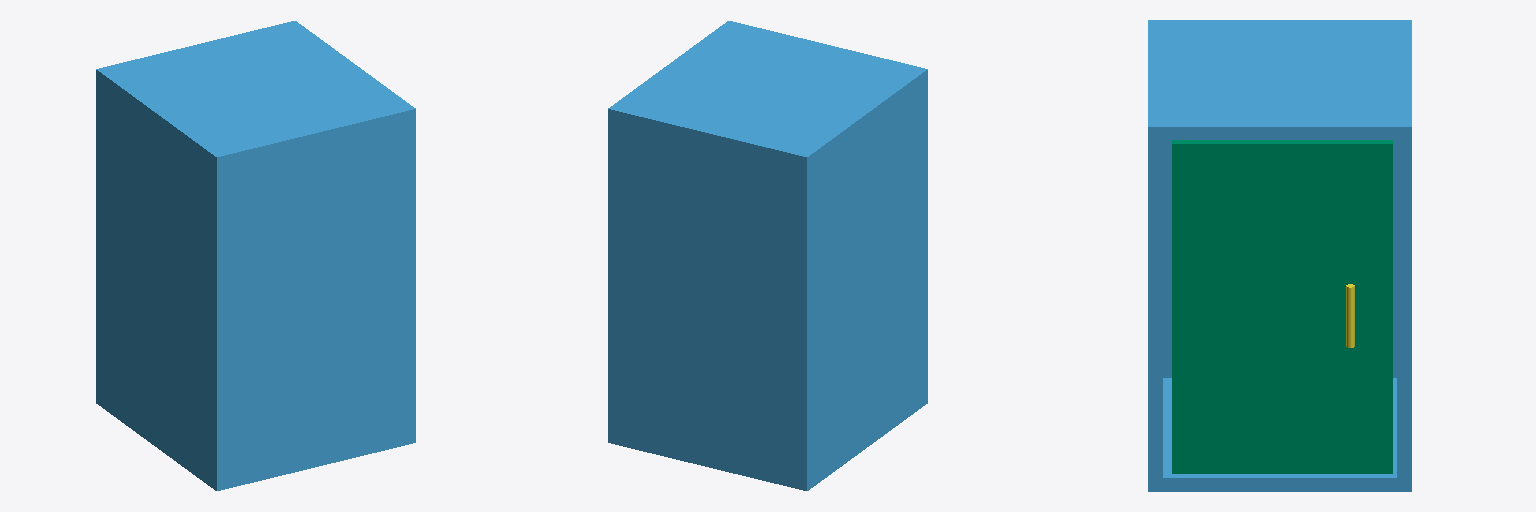
The robot description file, URDF, robot "my_cabinet":
<?xml version="1.0" ?>
<robot name="my_cabinet">
	<link name="world"/>
	<joint name="virtual_joint" type="fixed">
		<parent link="world"/>
		<child link="base_cabinet_link"/>
		<origin xyz="0.0 0.0 0.0" rpy="0.0 0.0 0.0"/>
	</joint>
	<link name="base_cabinet_link">
		<visual>
			<origin xyz="0.0 -0.0025 -0.23114638693445527" rpy="0.0 0.0 0.0"/>
			<geometry>
				<box size="0.3 0.31451438935212817 0.018"/>
			</geometry>
		</visual>
		<collision name="base_cabinet_link_collision_0">
			<origin xyz="0.0 -0.0025 -0.23114638693445527" rpy="0.0 0.0 0.0"/>
			<geometry>
				<box size="0.3 0.31451438935212817 0.018"/>
			</geometry>
		</collision>
		<visual>
			<origin xyz="0.0 0.1457571946760641 0.0" rpy="0.0 0.0 0.0"/>
			<geometry>
				<box size="0.3 0.018 0.48029277386891056"/>
			</geometry>
		</visual>
		<collision name="base_cabinet_link_collision_1">
			<origin xyz="0.0 0.1457571946760641 0.0" rpy="0.0 0.0 0.0"/>
			<geometry>
				<box size="0.3 0.018 0.48029277386891056"/>
			</geometry>
		</collision>
		<visual>
			<origin xyz="0.0 -0.1507571946760641 0.0" rpy="0.0 0.0 0.0"/>
			<geometry>
				<box size="0.3 0.018 0.48029277386891056"/>
			</geometry>
		</visual>
		<collision name="base_cabinet_link_collision_2">
			<origin xyz="0.0 -0.1507571946760641 0.0" rpy="0.0 0.0 0.0"/>
			<geometry>
				<box size="0.3 0.018 0.48029277386891056"/>
			</geometry>
		</collision>
		<visual>
			<origin xyz="0.0 -0.0025 0.23114638693445527" rpy="0.0 0.0 0.0"/>
			<geometry>
				<box size="0.3 0.31451438935212817 0.018"/>
			</geometry>
		</visual>
		<collision name="base_cabinet_link_collision_3">
			<origin xyz="0.0 -0.0025 0.23114638693445527" rpy="0.0 0.0 0.0"/>
			<geometry>
				<box size="0.3 0.31451438935212817 0.018"/>
			</geometry>
		</collision>
		<visual>
			<origin xyz="-0.141 -0.0025 0.0" rpy="0.0 0.0 0.0"/>
			<geometry>
				<box size="0.018 0.31451438935212817 0.48029277386891056"/>
			</geometry>
		</visual>
		<collision name="base_cabinet_link_collision_4">
			<origin xyz="-0.141 -0.0025 0.0" rpy="0.0 0.0 0.0"/>
			<geometry>
				<box size="0.018 0.31451438935212817 0.48029277386891056"/>
			</geometry>
		</collision>
		<inertial>
			<mass value="0.200000"/>
			<inertia ixx="0.005493" ixy="0.0" ixz="0.0" iyy="0.005345" iyz="0.0" izz="0.003149"/>
		</inertial>
	</link>
	<link name="door_link">
		<visual>
			<origin xyz="0.0 -0.1317571946760641 0.0"/>
			<geometry>
				<box size="0.018 0.2635143893521282 0.4342927738689105"/>
			</geometry>
		</visual>
		<collision name="door_link_collision">
			<origin xyz="0.0 -0.1317571946760641 0.0"/>
			<geometry>
				<box size="0.018 0.2635143893521282 0.4342927738689105"/>
			</geometry>
		</collision>
		<inertial>
			<mass value="0.200000"/>
			<inertia ixx="0.004301" ixy="0.0" ixz="0.0" iyy="0.003149" iyz="0.0" izz="0.001163"/>
		</inertial>
	</link>
	<joint name="door_joint" type="revolute">
		<origin xyz="0.141 -0.1317571946760641 0.0" rpy="0.000000 -0.000000 3.141593"/>
		<axis xyz="0 0 1"/>
		<parent link="base_cabinet_link"/>
		<child link="door_link"/>
		<limit effort="50" lower="-1.658062789394613" upper="0" velocity="10"/>
		<dynamics friction="3.5" damping="3.5"/>
	</joint>
	<link name="handle_link">
		<visual>
			<origin xyz="0.0 0.0 0.0" rpy="0.0 0.0 0.0"/>
			<geometry>
				<cylinder length="0.08" radius="0.005"/>
			</geometry>
		</visual>
		<collision name="handle_link_collision_0">
			<origin xyz="0.0 0.0 0.0" rpy="0.0 0.0 0.0"/>
			<geometry>
				<cylinder length="0.08" radius="0.005"/>
			</geometry>
		</collision>
		<visual>
			<origin xyz="-0.01 0.0 0.02" rpy="0.0 1.5707963267948966 0.0"/>
			<geometry>
				<cylinder length="0.02" radius="0.003"/>
			</geometry>
		</visual>
		<collision name="handle_link_collision_1">
			<origin xyz="-0.01 0.0 0.02" rpy="0.0 1.5707963267948966 0.0"/>
			<geometry>
				<cylinder length="0.01" radius="0.003"/>
			</geometry>
		</collision>
		<visual>
			<origin xyz="-0.01 0.0 -0.02" rpy="0.0 1.5707963267948966 0.0"/>
			<geometry>
				<cylinder length="0.02" radius="0.003"/>
			</geometry>
		</visual>
		<collision name="handle_link_collision_2">
			<origin xyz="-0.01 0.0 -0.02" rpy="0.0 1.5707963267948966 0.0"/>
			<geometry>
				<cylinder length="0.02" radius="0.003"/>
			</geometry>
		</collision>
		<inertial>
			<mass value="0.050000"/>
			<inertia ixx="0.000027" ixy="0.0" ixz="0.0" iyy="0.000029" iyz="0.0" izz="0.000003"/>
		</inertial>
	</link>
	<joint name="handle_joint" type="fixed">
		<origin xyz="-0.028999999999999998 -0.2135143893521282 0.0" rpy="0.000000 -0.000000 3.141593"/>
		<parent link="door_link"/>
		<child link="handle_link"/>
	</joint>
	<gazebo reference="base_cabinet_link">
		<sensor name="main_sensor" type="contact">
			<selfCollide>true</selfCollide>
			<alwaysOn>true</alwaysOn>
			<updateRate>5.0</updateRate>
			<material>Gazebo/Red</material>
			<contact>
				<collision>base_cabinet_link_collision_0_collision</collision>
				<collision>base_cabinet_link_collision_1_collision</collision>
				<collision>base_cabinet_link_collision_2_collision</collision>
				<collision>base_cabinet_link_collision_3_collision</collision>
				<collision>base_cabinet_link_collision_4_collision</collision>
			</contact>
			<plugin name="gazebo_ros_bumper_controller" filename="libgazebo_ros_bumper.so">
				<bumperTopicName>/contact</bumperTopicName>
				<frameName>world</frameName>
			</plugin>
		</sensor>
	</gazebo>
	<gazebo reference="door_link">
		<sensor name="main_sensor" type="contact">
			<selfCollide>true</selfCollide>
			<alwaysOn>true</alwaysOn>
			<updateRate>5.0</updateRate>
			<material>Gazebo/Red</material>
			<contact>
				<collision>door_link_collision_collision</collision>
			</contact>
			<plugin name="gazebo_ros_bumper_controller" filename="libgazebo_ros_bumper.so">
				<bumperTopicName>/contact_door</bumperTopicName>
				<frameName>contact_door</frameName>
			</plugin>
		</sensor>
	</gazebo>
	<gazebo reference="door_link">
		<mu>3.0</mu>
		<mu2>3.0</mu2>
		<kp>10000000</kp>
		<kd>100</kd>
	</gazebo>
</robot>

--- Render facts (derived) ---
The picture shows the robot from 3 angles, left to right: view 1: azimuth 30°, elevation 25°; view 2: azimuth 150°, elevation 25°; view 3: azimuth 270°, elevation 25°; orthographic projection.
Model my_cabinet with 4 links and 3 joints (1 revolute, 2 fixed), rooted at world, posed all joints at 0.
Visible links, largest first — view 1: base_cabinet_link; view 2: base_cabinet_link; view 3: door_link, base_cabinet_link, handle_link.
Link boxes in pixels (x1,y1,x2,y2): base_cabinet_link: [96, 21, 415, 490]; base_cabinet_link: [608, 21, 927, 490]; door_link: [1172, 140, 1392, 473]; base_cabinet_link: [1148, 20, 1411, 491]; handle_link: [1346, 284, 1354, 347].
Bounding box of the posed robot: 0.325 × 0.3145 × 0.4803 m (x, y, z).
Geometry: primitives only (box / cylinder / sphere), no mesh files.
